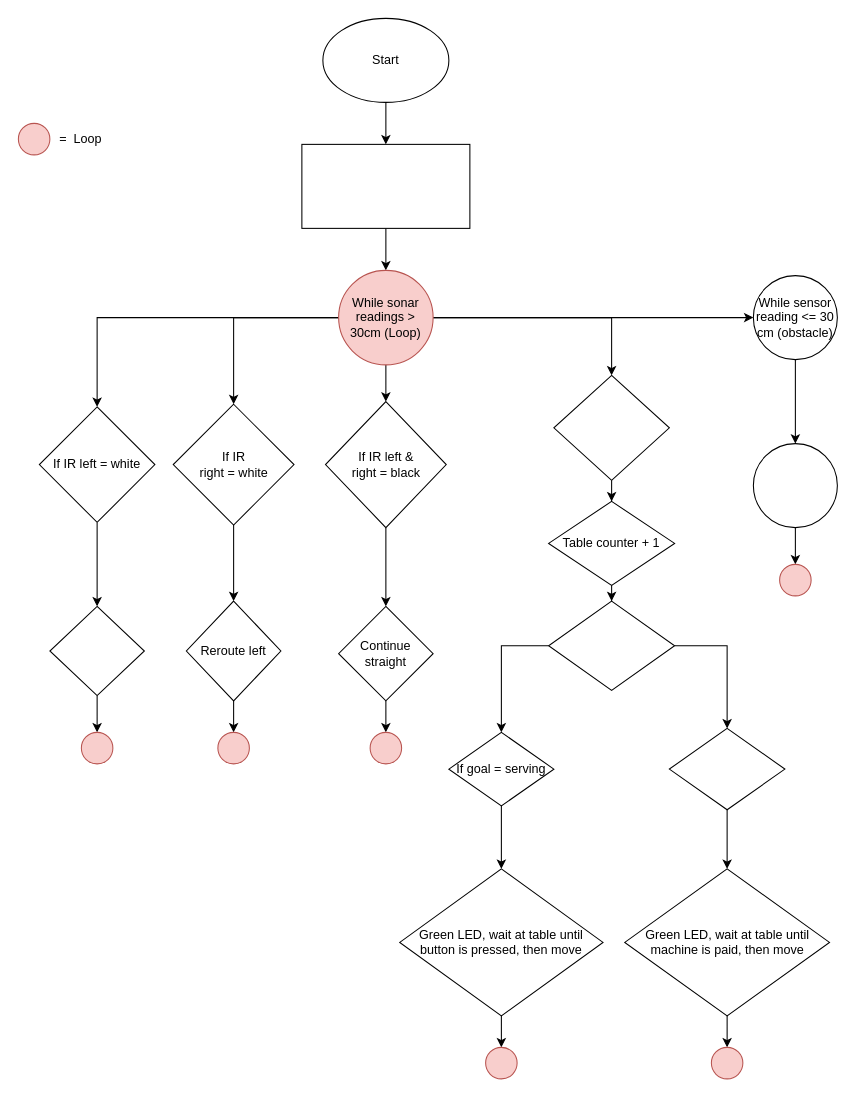
The diagram is 856 pixels wide and 1097 high, and some of its shapes have lost their labels. The shapes that lost their labels are listed below. From the top down, each one's centre as x and y in pixels, then its label:
At (x=385, y=185): "Initialize Table Counter = 0, get table number input & goal(serving or payment)".
At (x=611, y=427): "If IR left or right = green".
At (x=794, y=485): "Flashing Red LED".
At (x=96, y=650): "Reroute right".
At (x=611, y=645): "If table counter = table number".
At (x=726, y=768): "If goal = payment".
